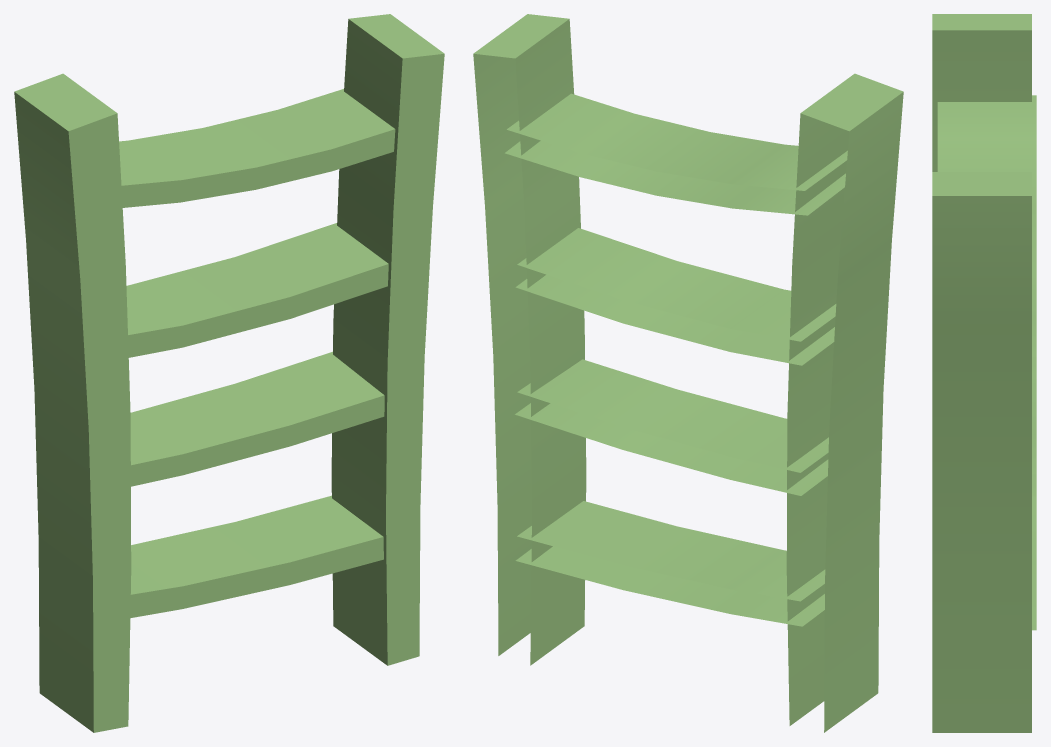
File: cupboard_2.fbx
The picture shows the model from 3 angles, left to right: view 1: azimuth 30°, elevation 25°; view 2: azimuth 150°, elevation 25°; view 3: azimuth 270°, elevation 25°; orthographic projection. The views are drawn at different scales.
Visible parts, largest first — view 1: cupboard_9; view 2: cupboard_9; view 3: cupboard_9.
Part boxes in pixels (x1,y1,x2,y2): cupboard_9: [14, 14, 444, 732]; cupboard_9: [473, 14, 903, 732]; cupboard_9: [932, 14, 1036, 732].
Bounding box in the file's own units: 113 × 177 × 29.52.
